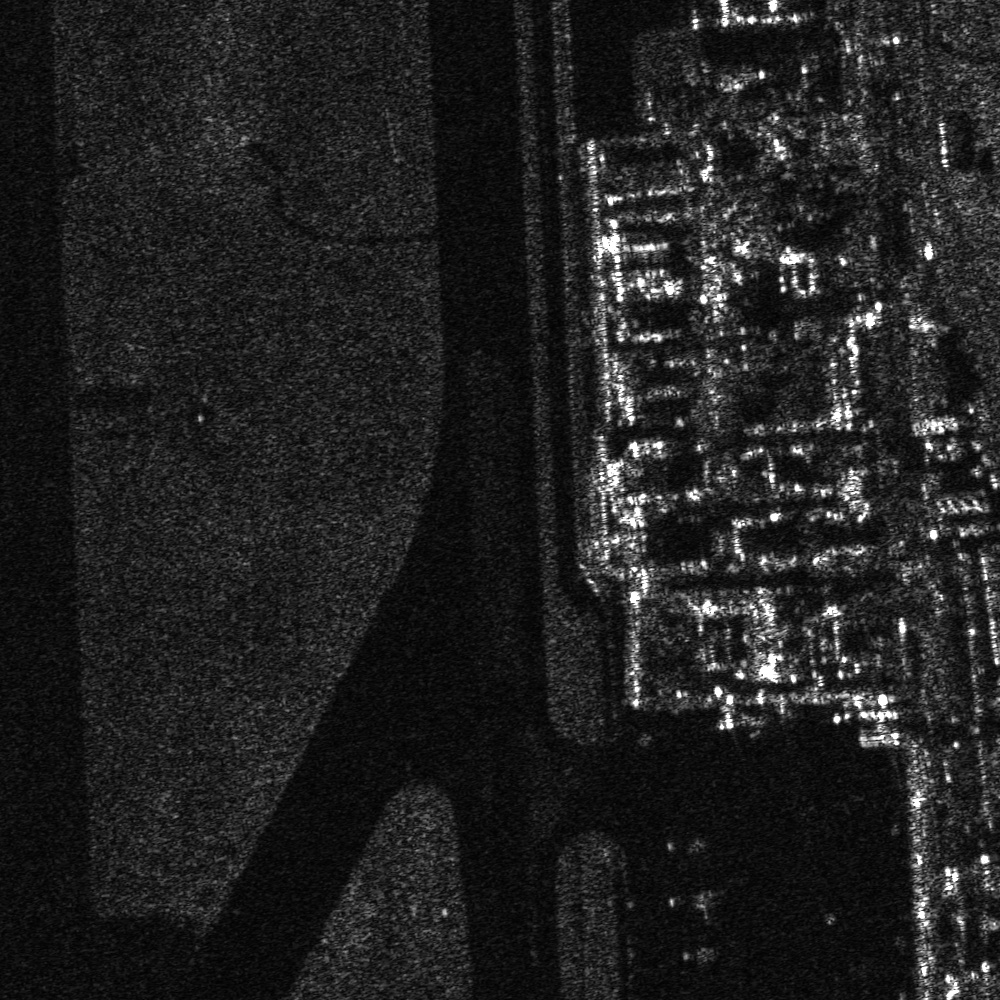ARJ21: (660, 878, 728, 922), (671, 933, 727, 972)
other: (650, 823, 717, 865)
